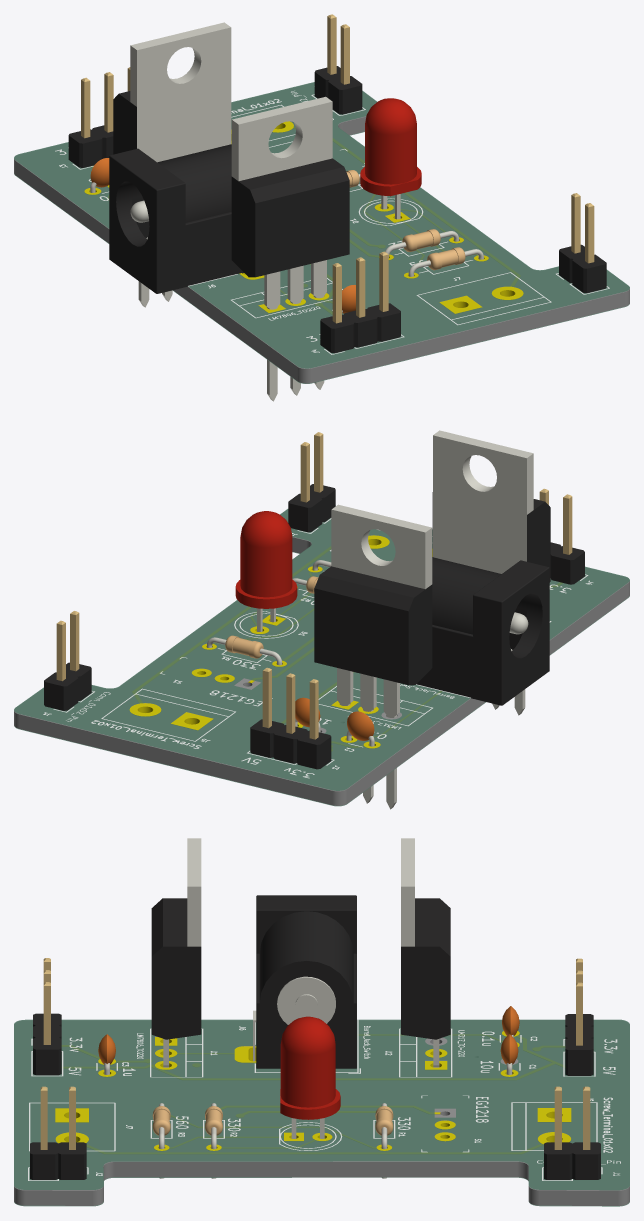
The model's file is 02.POWER_SUPPLY_BB.glb.
3 renders of one model, top to bottom at view 1: azimuth 30°, elevation 25°; view 2: azimuth 150°, elevation 25°; view 3: azimuth 270°, elevation 25°, orthographic. The views are drawn at different scales.
Parts seen in each view (by area): view 1: =>[0:1:1:12], =>[0:1:1:11], U1, J6, U2, D1, J4, =>[0:1:1:9], J2, J1, J3, =>[0:1:1:10] (+2 smaller); view 2: =>[0:1:1:12], =>[0:1:1:11], U2, J6, U1, D1, J3, =>[0:1:1:9], =>[0:1:1:10], J1, J2, J4 (+2 smaller); view 3: =>[0:1:1:11], =>[0:1:1:12], J6, U1, U2, D1, =>[0:1:1:9], =>[0:1:1:10], J1, J2, J4, J3 (+3 smaller).
Boxes of the visible parts, x1,y1,x2,y2 form: =>[0:1:1:12]: (14,83,629,383); =>[0:1:1:11]: (14,82,629,383); U1: (231,96,349,401); J6: (109,144,243,293); U2: (113,22,231,307); D1: (360,98,421,219); J4: (320,251,400,353); =>[0:1:1:9]: (84,121,523,313); J2: (559,193,606,293); J1: (314,14,362,114); J3: (68,67,130,167); =>[0:1:1:10]: (55,90,609,354); =>[0:1:1:12]: (14,510,629,805); =>[0:1:1:11]: (14,509,629,806); U2: (314,504,432,809); J6: (416,557,549,705); U1: (432,430,550,715); D1: (235,511,297,631); J3: (250,667,331,769); =>[0:1:1:9]: (129,535,561,750); =>[0:1:1:10]: (43,518,593,778); J1: (44,611,91,710); J2: (288,432,335,532); J4: (539,488,584,584); =>[0:1:1:11]: (14,1019,629,1206); =>[0:1:1:12]: (14,1020,629,1205); J6: (253,895,356,1068); U1: (151,838,201,1067); U2: (401,838,450,1067); D1: (280,1016,340,1138); =>[0:1:1:9]: (55,1031,571,1153); =>[0:1:1:10]: (28,1019,620,1180); J1: (544,1086,600,1179); J2: (30,1086,86,1179); J4: (33,958,61,1075); J3: (565,958,593,1075).
Bounding box in the file's own units: 0.0395 × 0.0285 × 0.0551.
